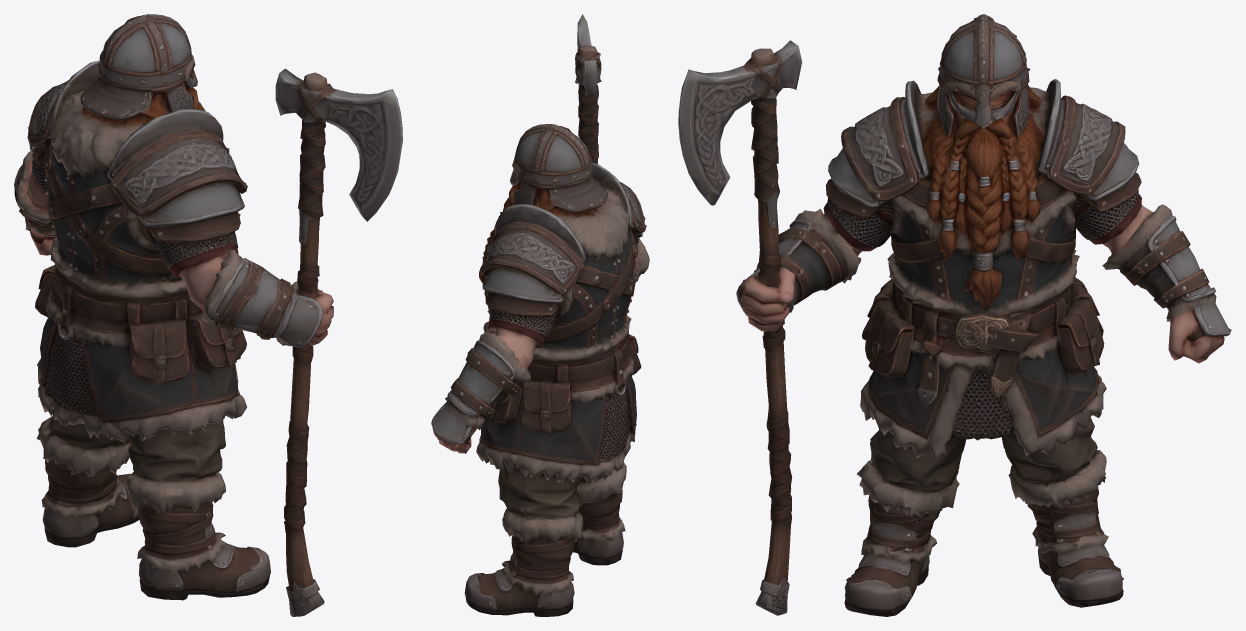
3 renders of one model, left to right at view 1: azimuth 30°, elevation 25°; view 2: azimuth 150°, elevation 25°; view 3: azimuth 270°, elevation 25°, orthographic. The views are drawn at different scales.
Visible parts, largest first — view 1: tripo_node_49914d1f-33ef-4970-88f6-b6ff597b891b; view 2: tripo_node_49914d1f-33ef-4970-88f6-b6ff597b891b; view 3: tripo_node_49914d1f-33ef-4970-88f6-b6ff597b891b.
Part boxes in pixels (left/top/right/bottom): tripo_node_49914d1f-33ef-4970-88f6-b6ff597b891b: left=14, top=14, right=402, bottom=616; tripo_node_49914d1f-33ef-4970-88f6-b6ff597b891b: left=431, top=14, right=649, bottom=616; tripo_node_49914d1f-33ef-4970-88f6-b6ff597b891b: left=678, top=14, right=1231, bottom=616.
Bounding box in the file's own units: 0.381 × 1 × 0.8769.
1 material, 1 textured.
